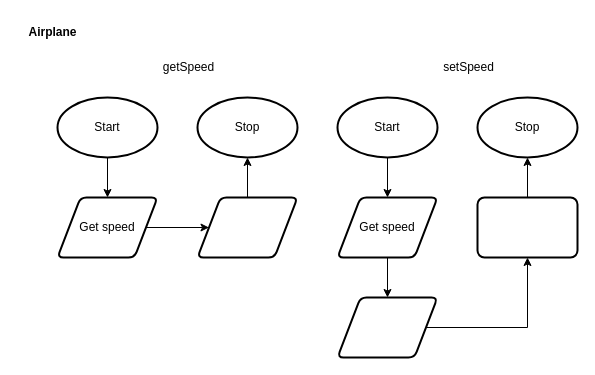
This 595x375 diagram has some shape labels left out. Here are the shapes that lost their labels. From the top down, the box of each, then its label:
(196, 196, 298, 258): return this.speed
(476, 196, 578, 258): this.speed = newSpeed
(336, 296, 438, 358): Get newSpeed
